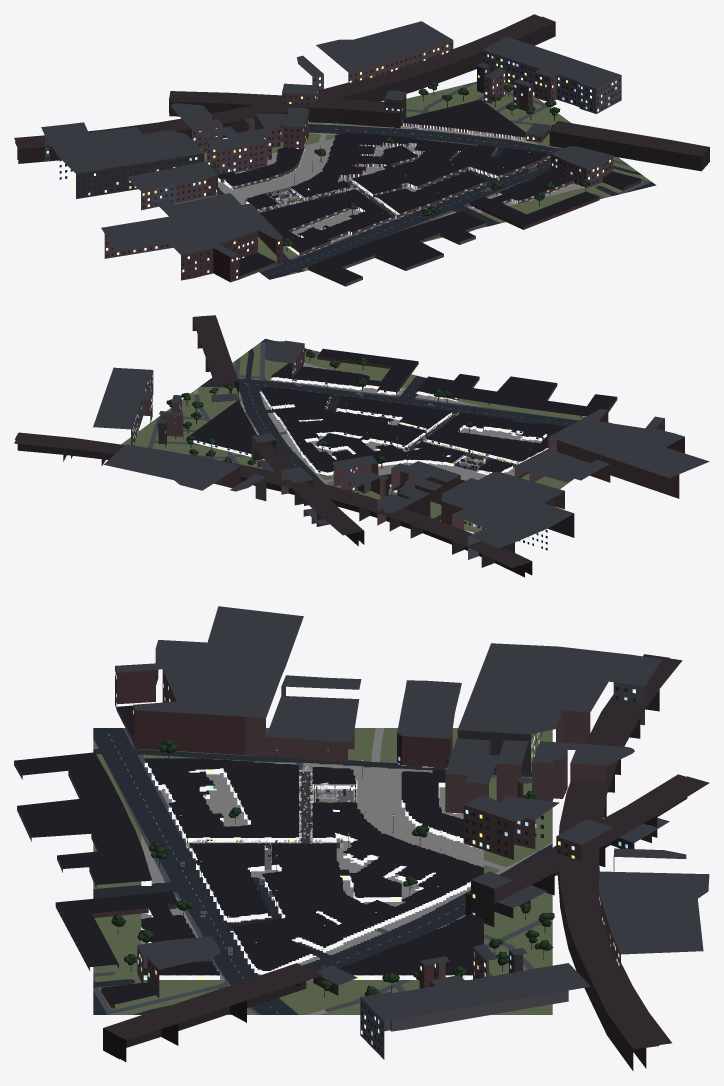
The model's file is level.glb.
The picture shows the model from 3 angles, top to bottom: view 1: azimuth 30°, elevation 25°; view 2: azimuth 150°, elevation 25°; view 3: azimuth 270°, elevation 25°; orthographic projection. The views are drawn at different scales.
Parts seen in each view (by area): view 1: static, blocks_caps, far_caps, far_windows, far_canopies, canopies; view 2: static, blocks_caps, far_caps, far_canopies, canopies; view 3: static, blocks_caps, far_caps, far_canopies, canopies.
Boxes of the visible parts, <box> form: static: <box>14,14,709,286</box>; blocks_caps: <box>214,99,573,252</box>; far_caps: <box>239,171,641,283</box>; far_windows: <box>46,44,616,278</box>; far_canopies: <box>391,81,560,200</box>; canopies: <box>210,137,590,246</box>; static: <box>14,315,709,577</box>; blocks_caps: <box>187,363,566,493</box>; far_caps: <box>317,348,616,416</box>; far_canopies: <box>157,357,390,489</box>; canopies: <box>305,349,472,463</box>; static: <box>14,606,709,1070</box>; blocks_caps: <box>141,758,483,975</box>; far_caps: <box>14,705,177,1003</box>; far_canopies: <box>111,790,554,995</box>; canopies: <box>124,739,450,965</box>.
Bounding box in the file's own units: 295 × 12.4 × 203.
